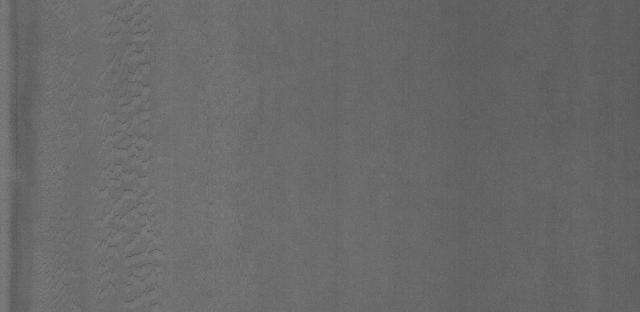silk_spot: (96, 22, 182, 297)
